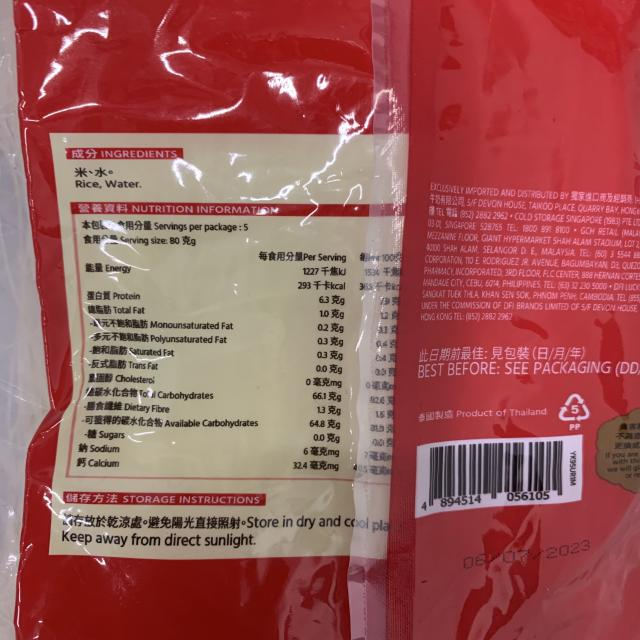object_name: (19, 0, 639, 640)
